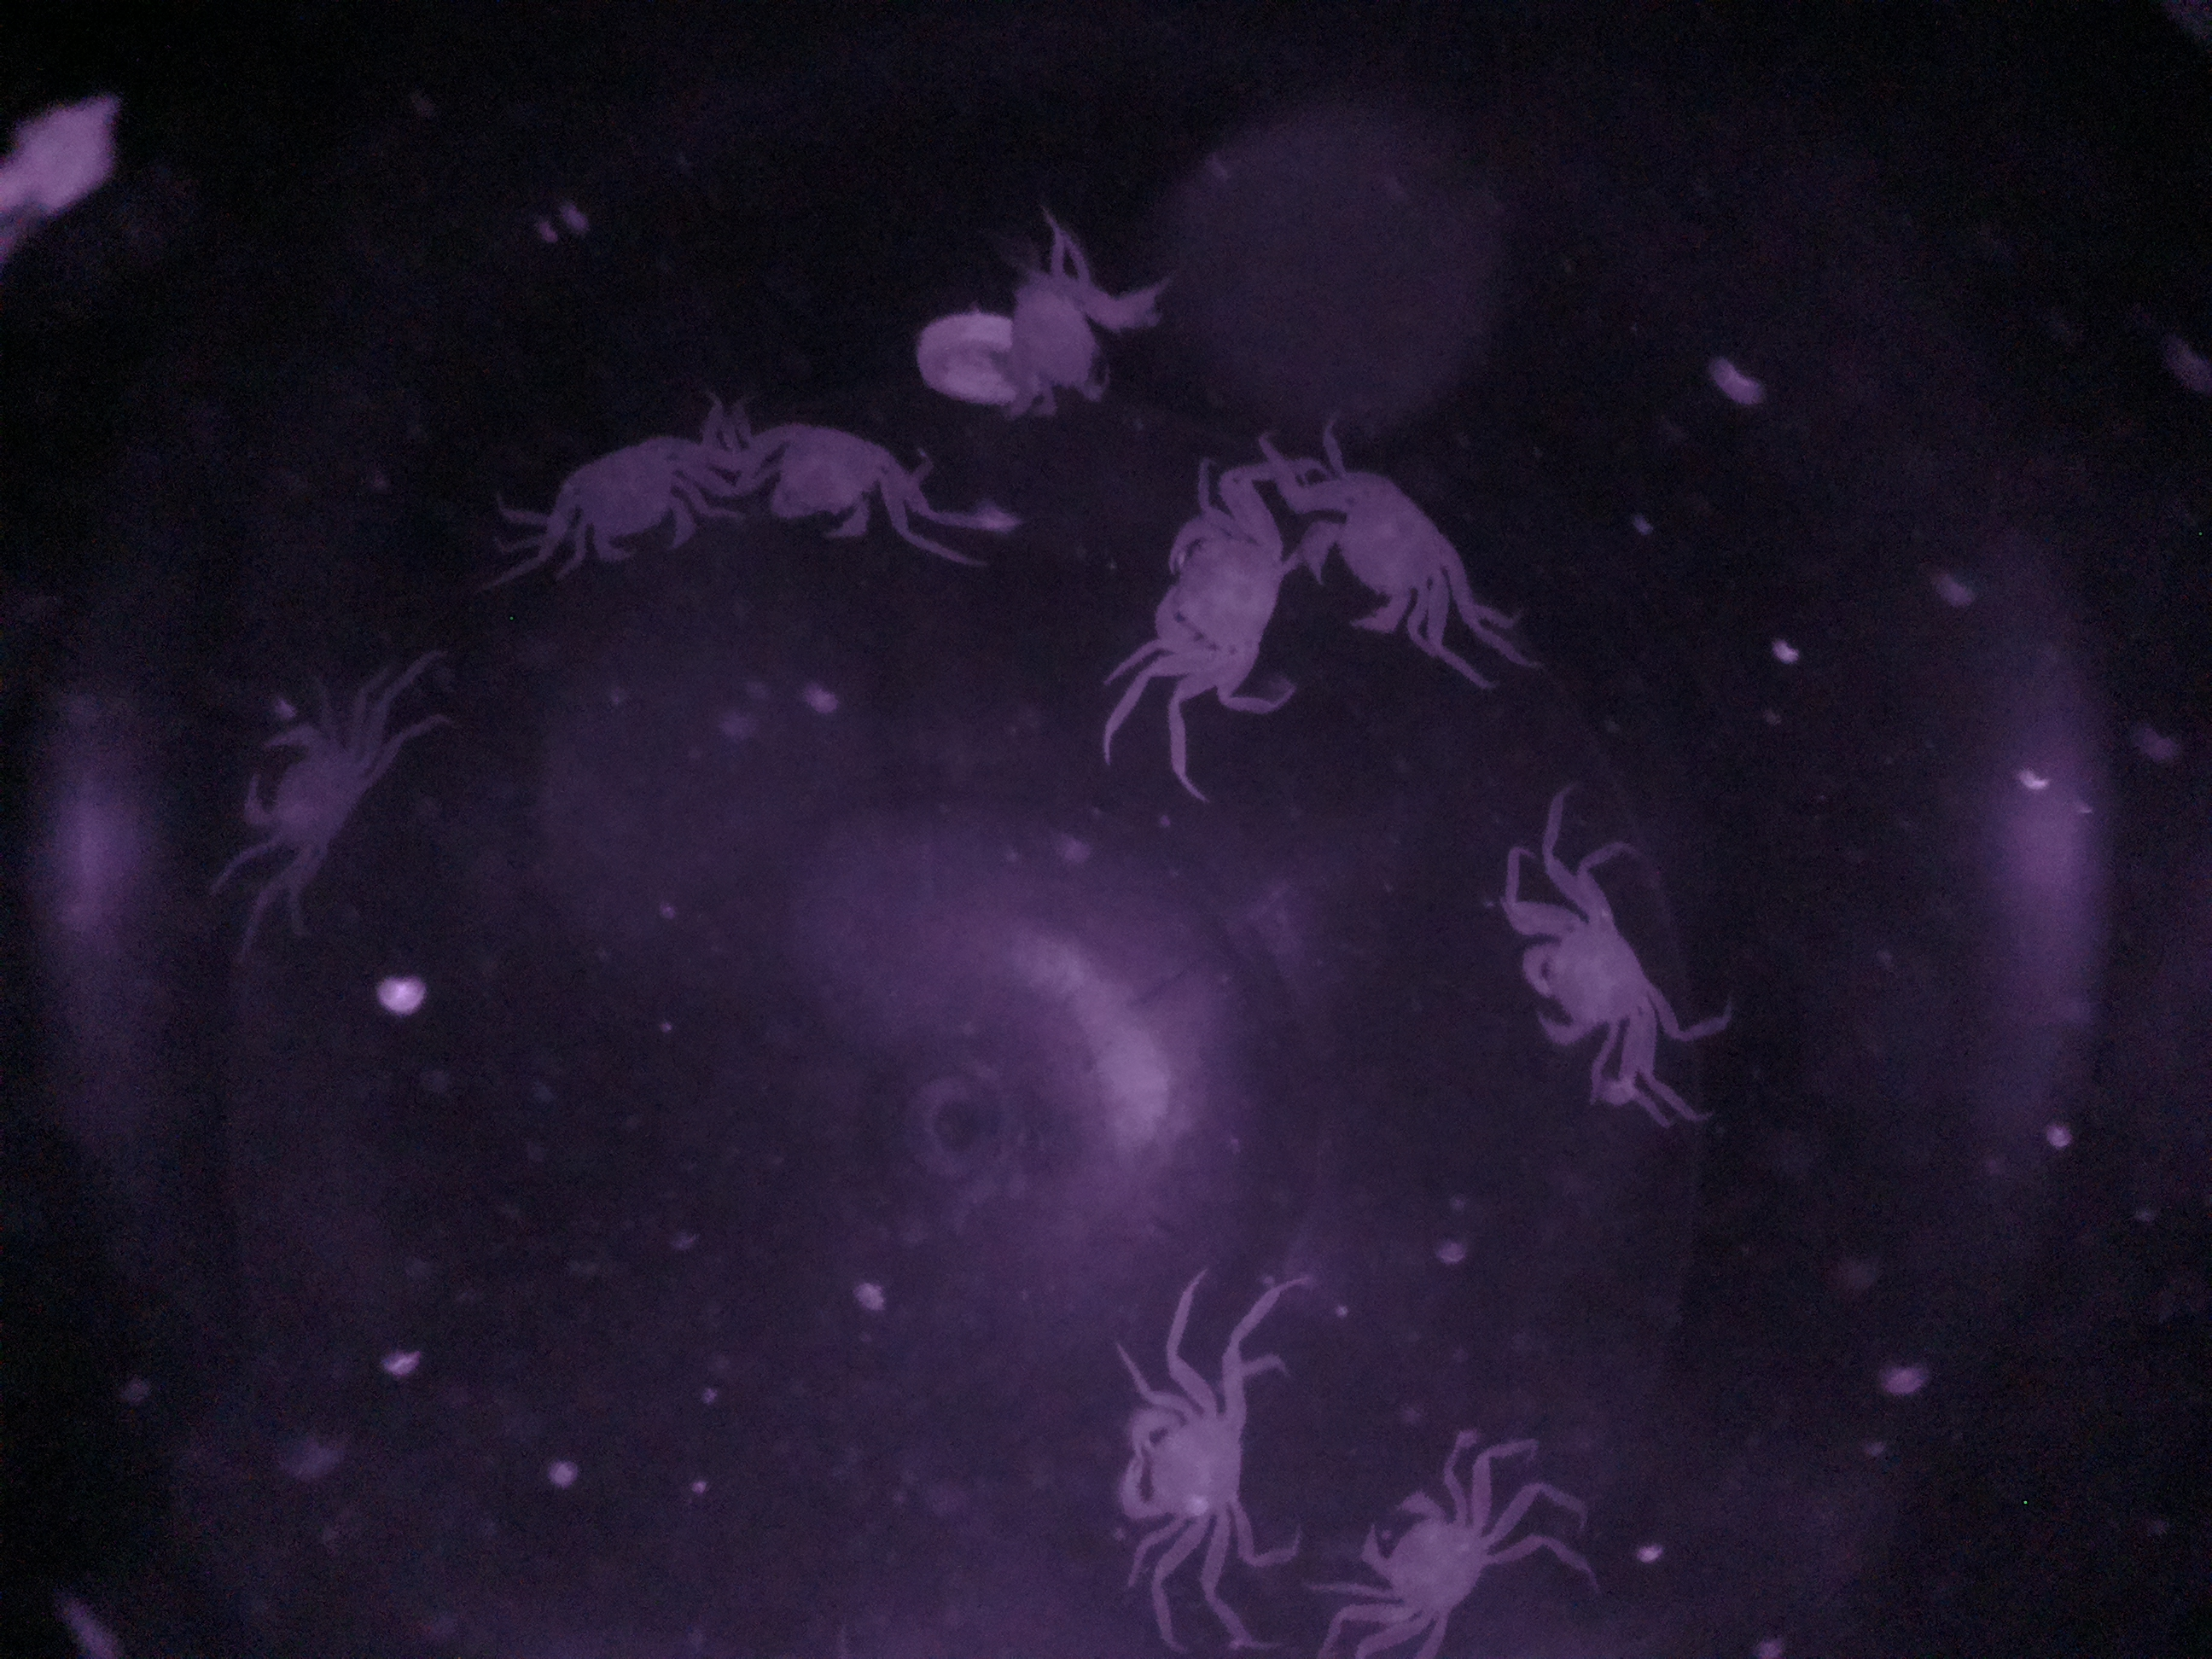Crab: (1299, 420, 1491, 650), (1111, 488, 1303, 711), (740, 401, 942, 579), (549, 404, 726, 605), (1501, 882, 1672, 1084), (1106, 1347, 1261, 1563), (1332, 1446, 1500, 1645), (226, 713, 416, 884)
